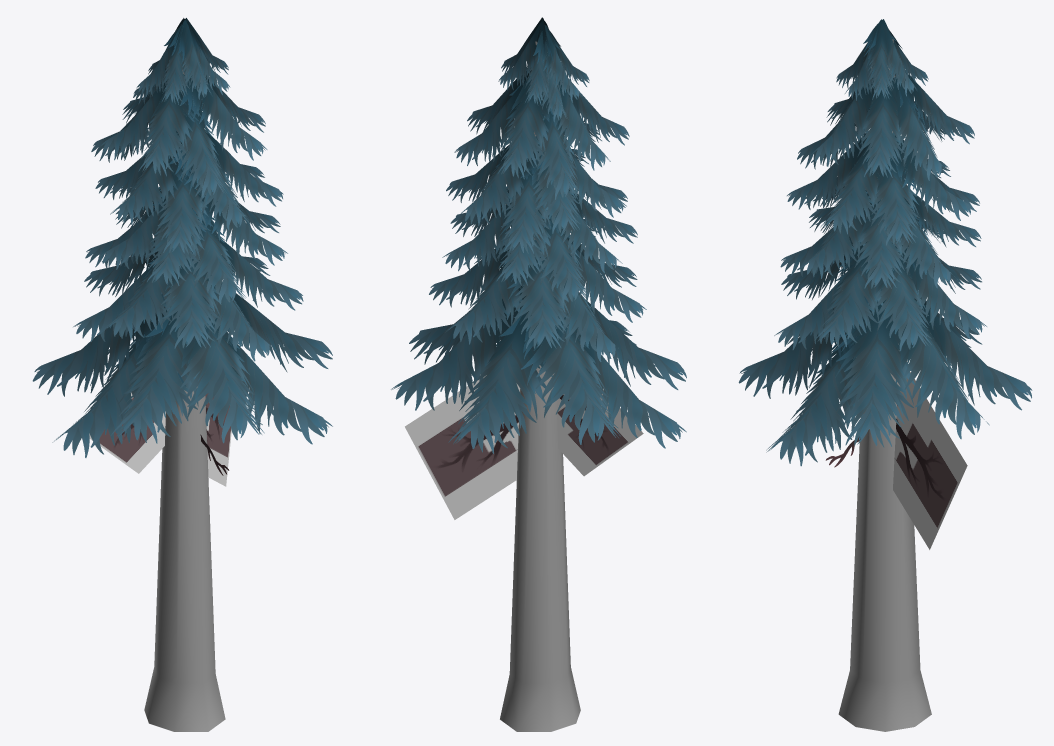
The model's file is Arbol_gordo_1_Final.fbx.
3 views of the same model, side by side, from view 1: azimuth 30°, elevation 25°; view 2: azimuth 150°, elevation 25°; view 3: azimuth 270°, elevation 25° (orthographic).
Visible parts, largest first — view 1: Hoja_arbol_gordo_1, Arbol_gordo_1_low, Rama_B_arbol_gordo_1; view 2: Hoja_arbol_gordo_1, Arbol_gordo_1_low, Rama_B_arbol_gordo_1; view 3: Hoja_arbol_gordo_1, Arbol_gordo_1_low, Rama_B_arbol_gordo_1.
Boxes of the visible parts, left/top/right/bottom form: Hoja_arbol_gordo_1: left=32, top=18, right=332, bottom=457; Arbol_gordo_1_low: left=144, top=70, right=225, bottom=731; Rama_B_arbol_gordo_1: left=89, top=392, right=231, bottom=486; Hoja_arbol_gordo_1: left=391, top=17, right=686, bottom=453; Arbol_gordo_1_low: left=500, top=41, right=580, bottom=731; Rama_B_arbol_gordo_1: left=405, top=375, right=643, bottom=519; Hoja_arbol_gordo_1: left=738, top=19, right=1032, bottom=466; Arbol_gordo_1_low: left=838, top=39, right=931, bottom=731; Rama_B_arbol_gordo_1: left=893, top=372, right=967, bottom=549.
Size of the model in its own units: 16.55 by 38.65 by 15.78.
